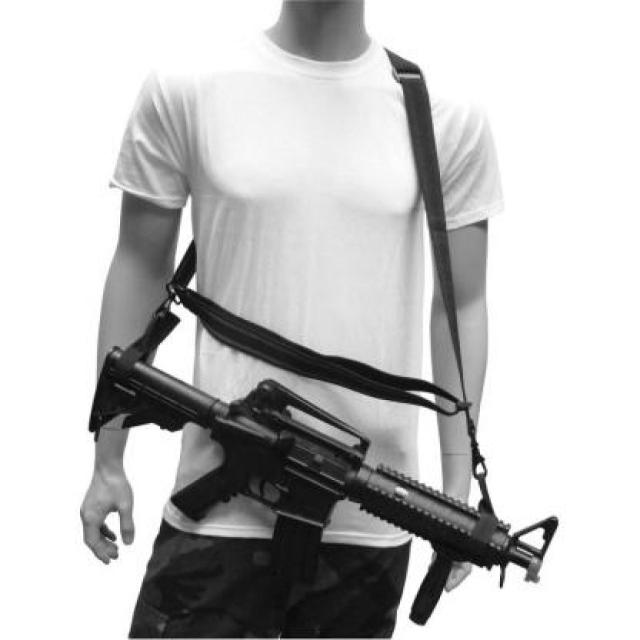weapon: (88, 342, 561, 628)
